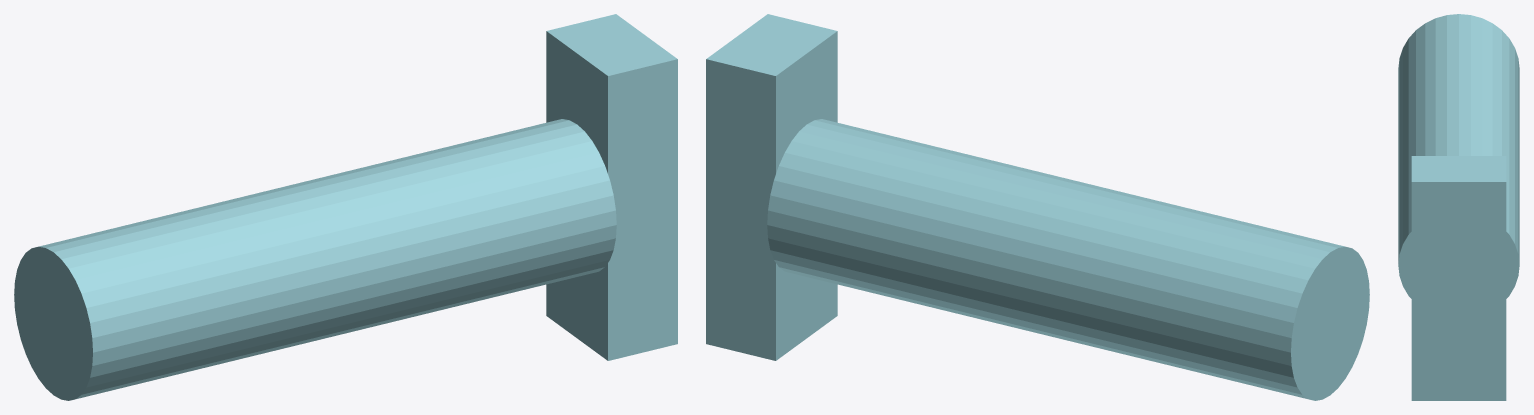
Rendered from cylinder_hammer_v1004.obj.
3 views of the same model, side by side, from view 1: azimuth 30°, elevation 25°; view 2: azimuth 150°, elevation 25°; view 3: azimuth 270°, elevation 25° (orthographic). The views are drawn at different scales.
Bounding box in the file's own units: 0.1843 × 0.0846 × 0.0425.
1 material, 1 textured.
